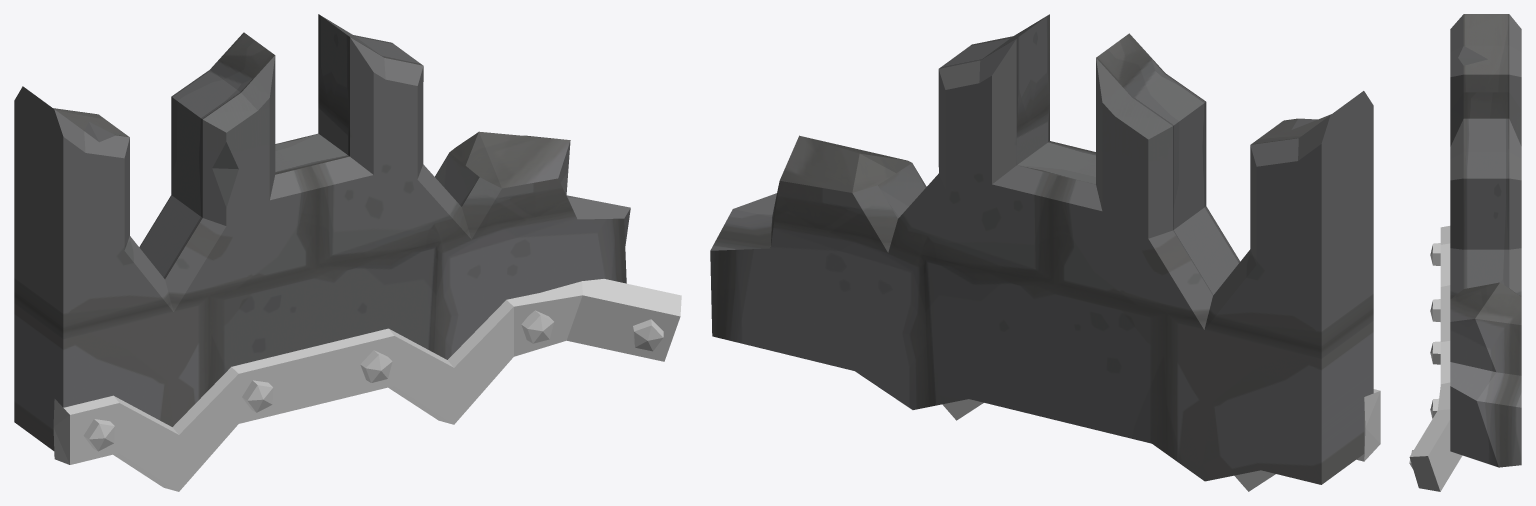
File: SM_Bld_Battlements_Damaged_02.fbx
3 renders of one model, left to right at view 1: azimuth 30°, elevation 25°; view 2: azimuth 150°, elevation 25°; view 3: azimuth 270°, elevation 25°, orthographic. The views are drawn at different scales.
Visible parts, largest first — view 1: SM_Bld_Battlements_Damaged_02; view 2: SM_Bld_Battlements_Damaged_02; view 3: SM_Bld_Battlements_Damaged_02.
Boxes of the visible parts, <box> form: SM_Bld_Battlements_Damaged_02: <box>14,14,681,491</box>; SM_Bld_Battlements_Damaged_02: <box>710,14,1380,491</box>; SM_Bld_Battlements_Damaged_02: <box>1409,14,1521,491</box>.
Size of the model in its own units: 282 by 181 by 62.67.
